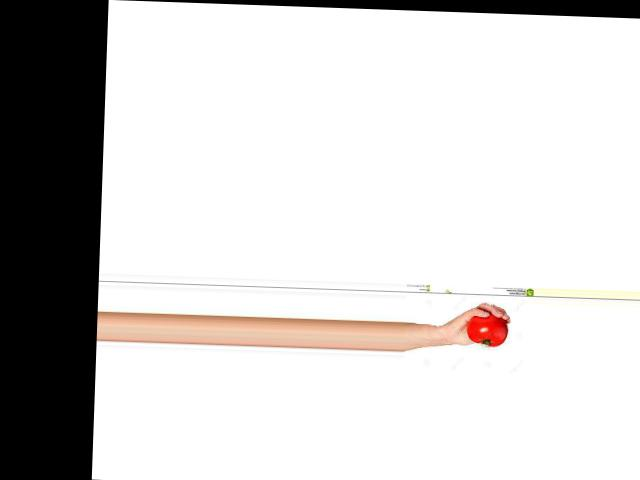tomato: (465, 311, 508, 347)
